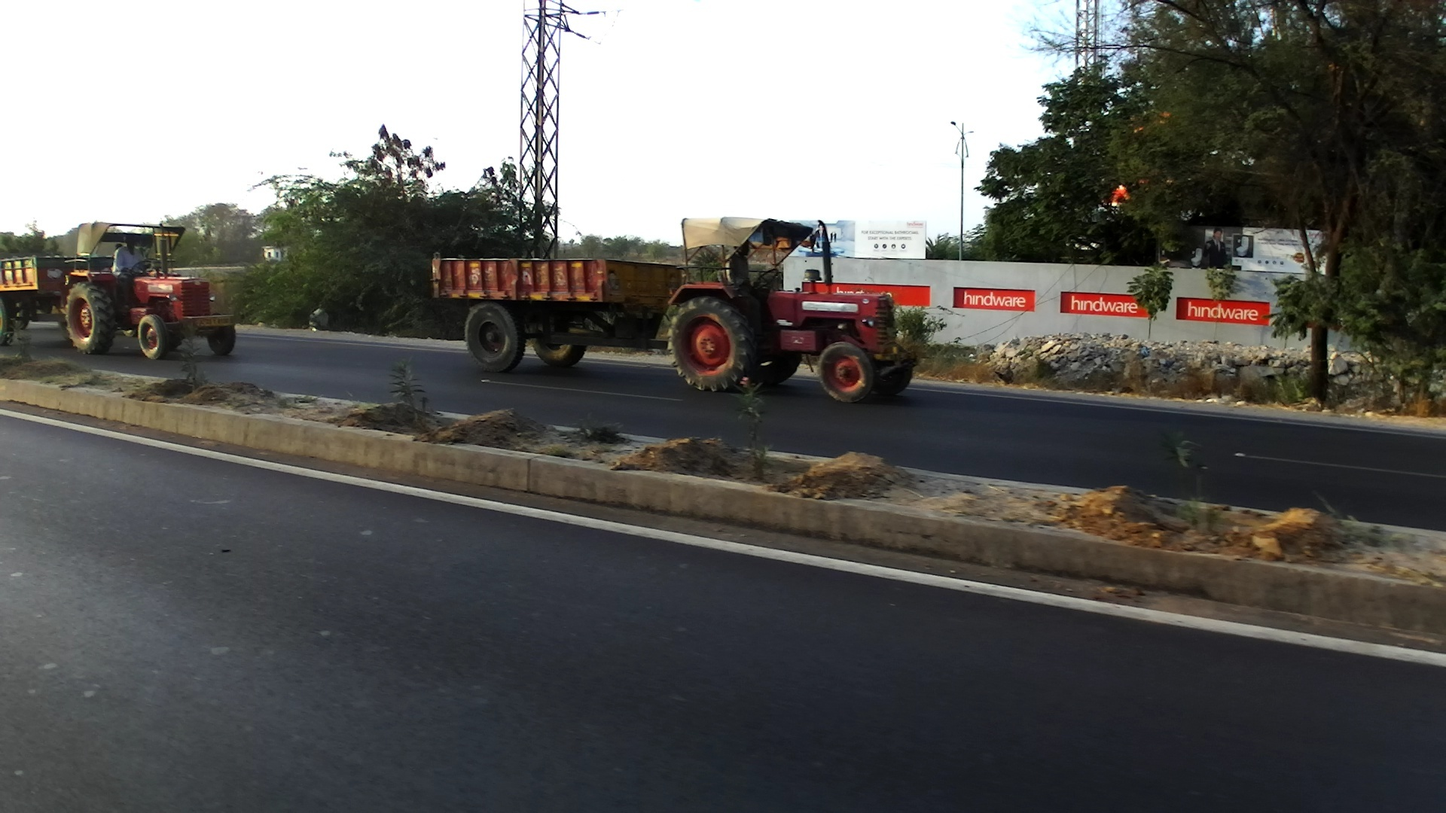vehicle fallback: (429, 215, 918, 403), (2, 217, 237, 364)
